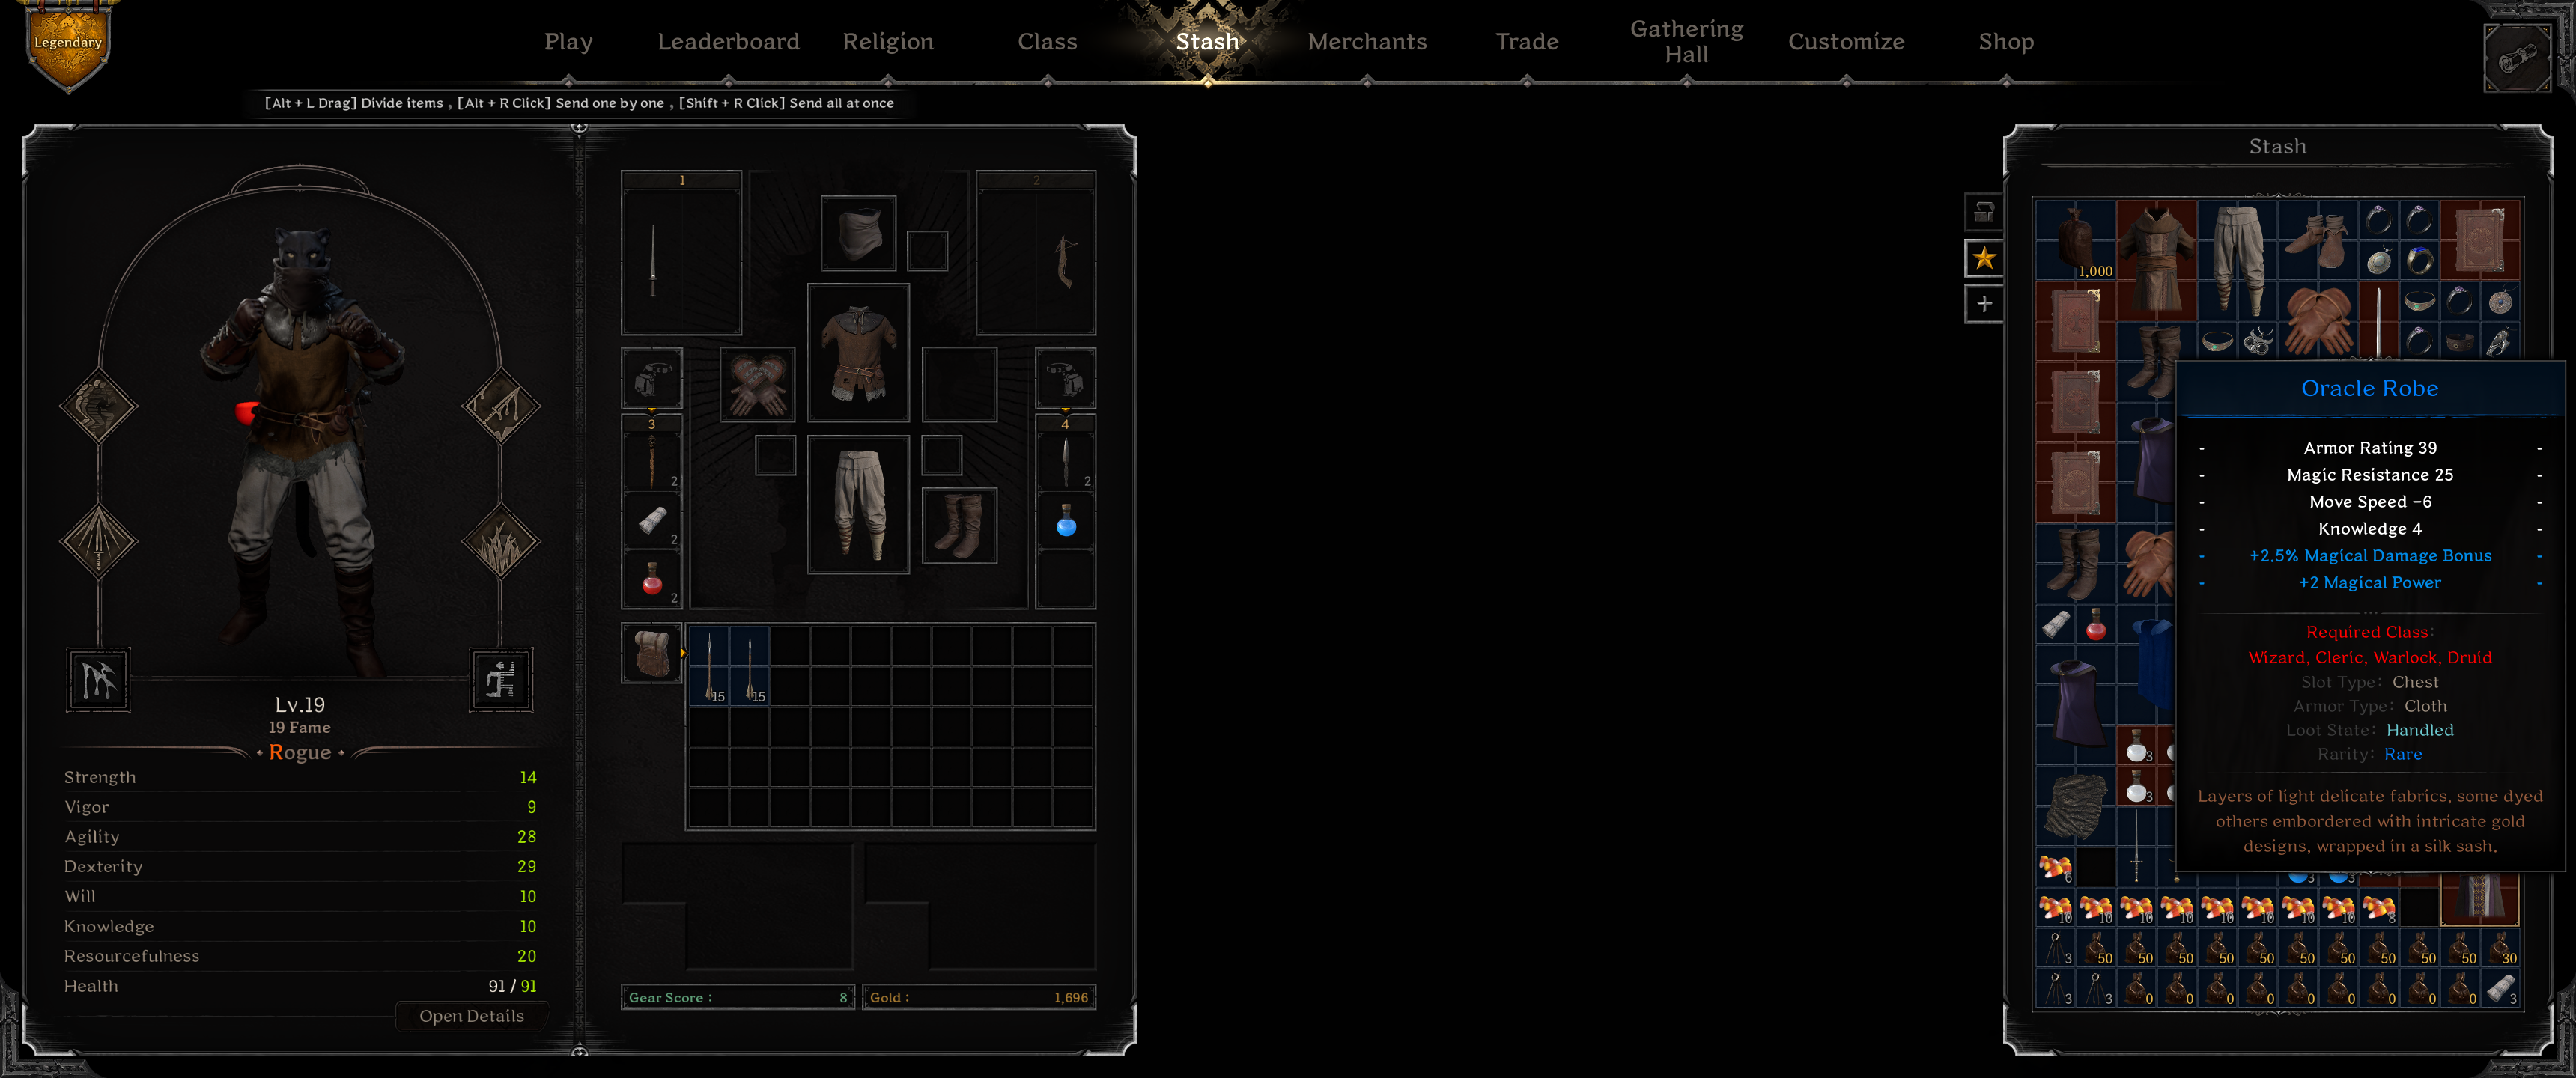Tooltip: (2173, 358, 2568, 874)
